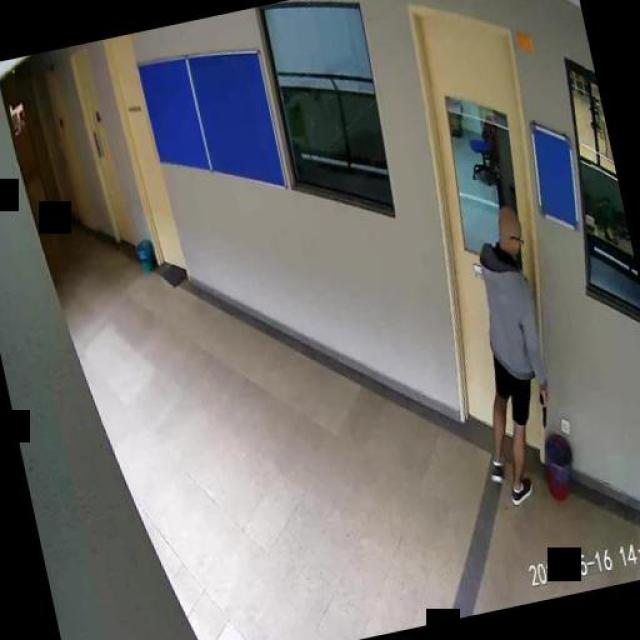gun: (532, 386, 552, 426)
